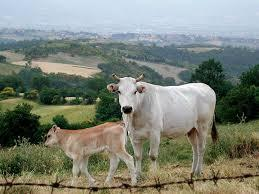cow: (106, 73, 218, 179), (43, 120, 138, 187)
